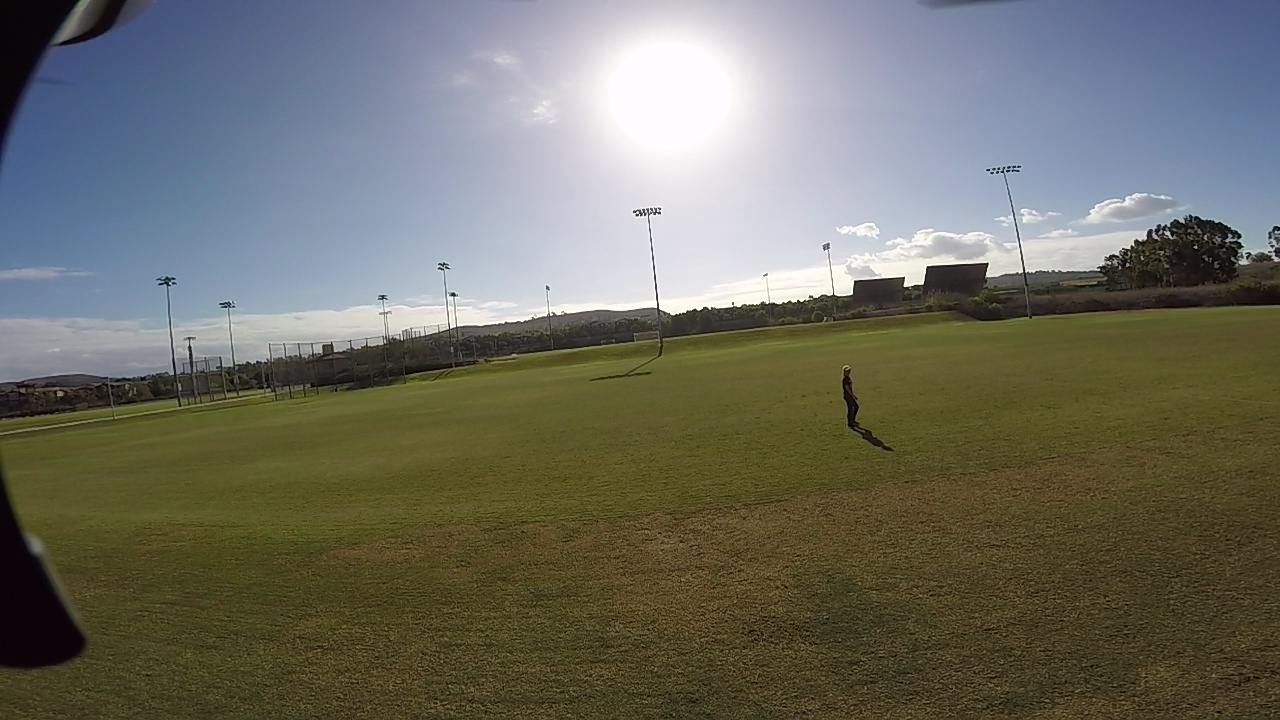person: (838, 357, 891, 447)
